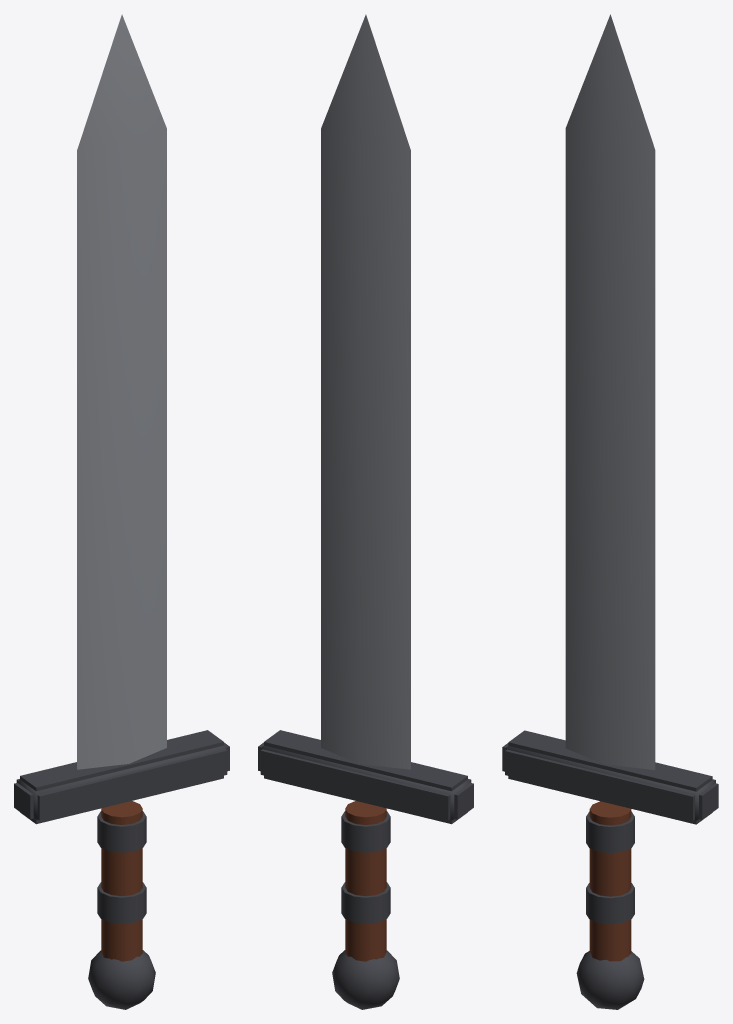
Rendered from arma_espada_t1_chapa.glb.
The picture shows the model from 3 angles, left to right: view 1: azimuth 30°, elevation 25°; view 2: azimuth 150°, elevation 25°; view 3: azimuth 330°, elevation 25°; orthographic projection.
Visible parts, largest first — view 1: arma_espada_t1_chapa; view 2: arma_espada_t1_chapa; view 3: arma_espada_t1_chapa.
Part boxes in pixels (x1=…): arma_espada_t1_chapa: x1=14, y1=14, x2=229, y2=1009; arma_espada_t1_chapa: x1=258, y1=14, x2=473, y2=1009; arma_espada_t1_chapa: x1=502, y1=14, x2=718, y2=1009.
Size of the model in its own units: 0.2 by 0.95 by 0.06.
